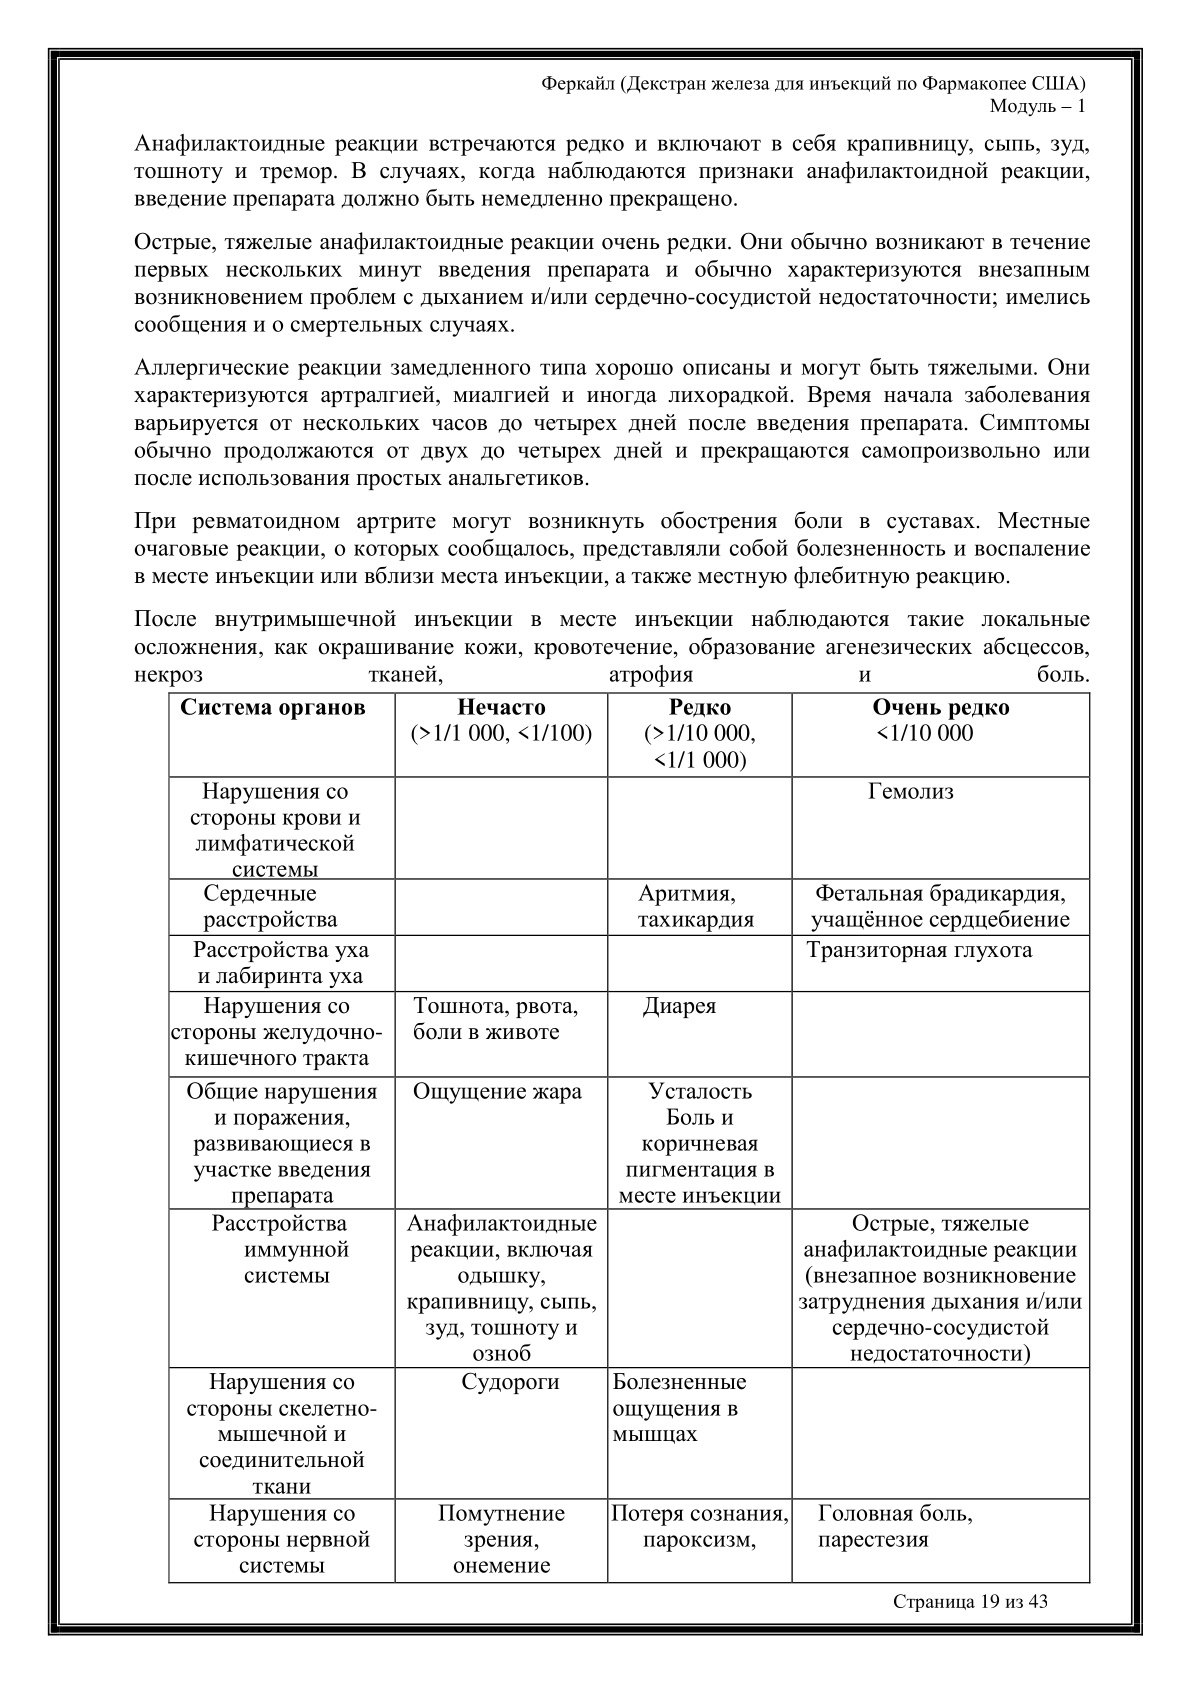full_lined: (168, 692, 1091, 1584)
